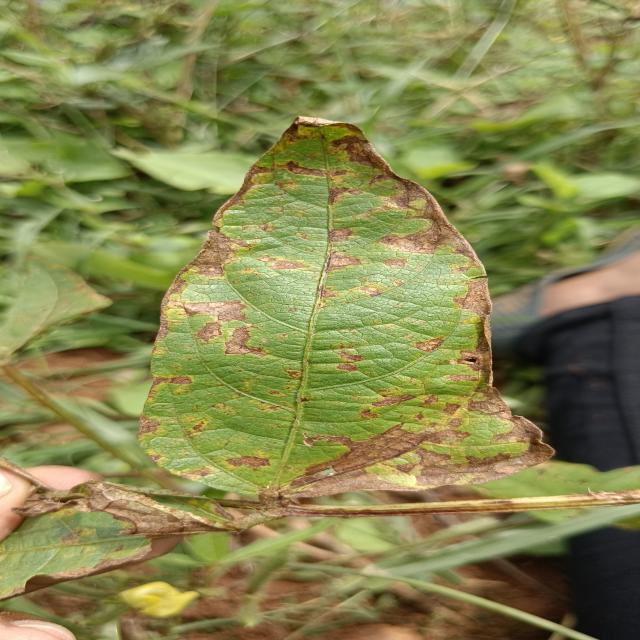Black gram_leaf spot: (133, 109, 565, 504)
